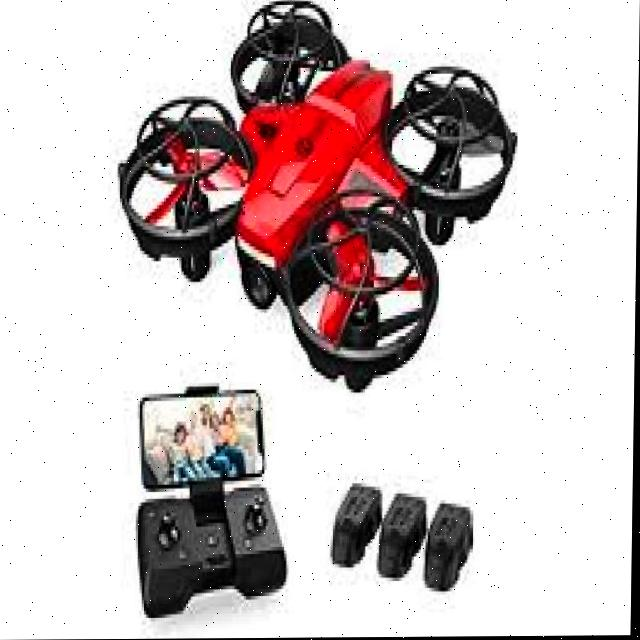drone: (106, 0, 527, 395)
